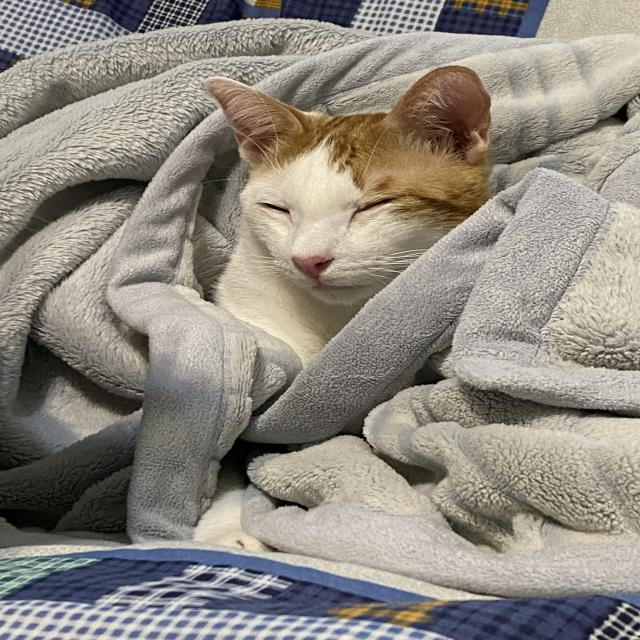cat1: (168, 68, 504, 367)
